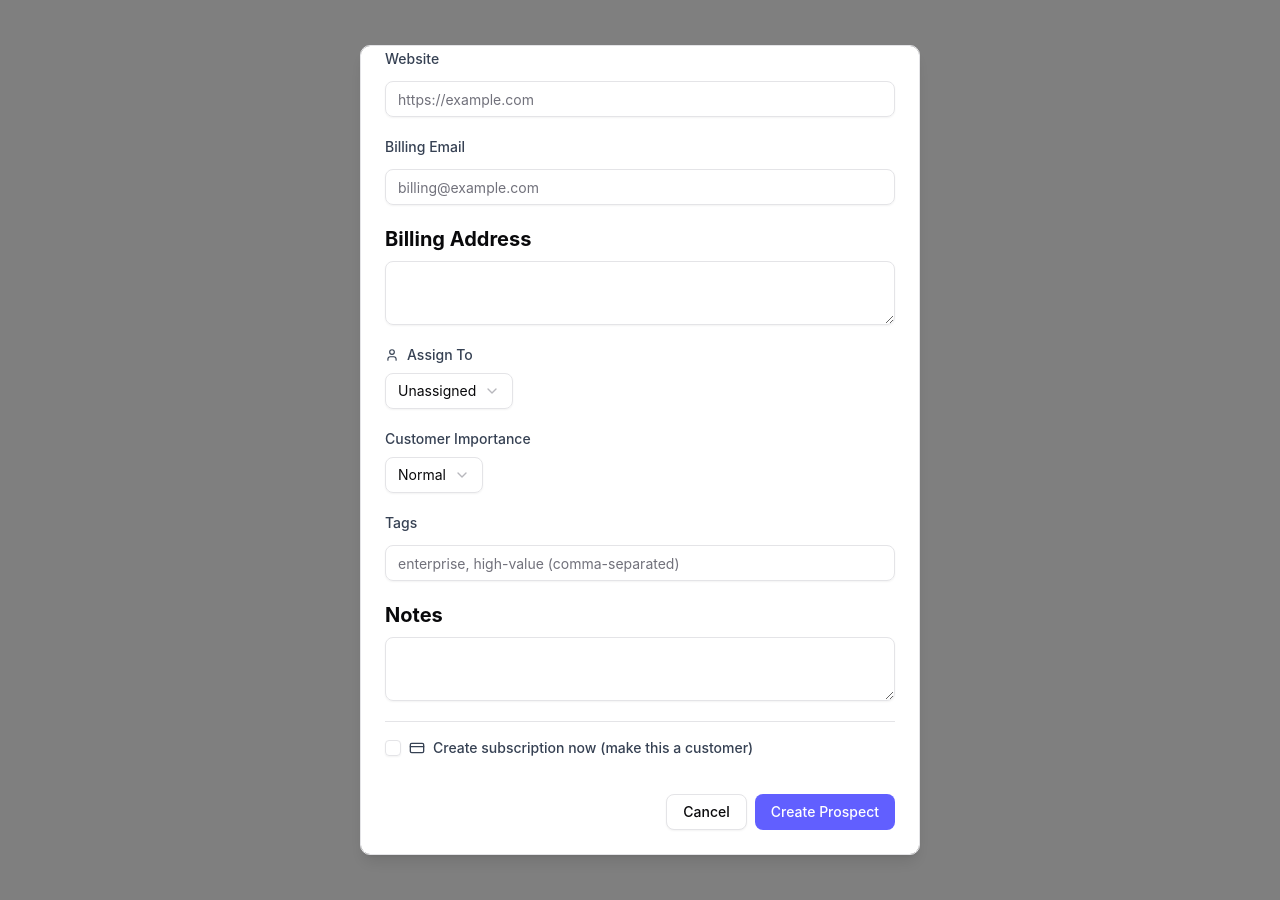
Test case: CreateCustomerDialog › Create Subscription Toggle › should show subscription section when toggle is checked
The width and height of the screenshot is (1280, 900).
(page scrolled)
Expected: the text "Subscription Details" is not shown
Click the checkbox named "create subscription now" at (393,748), box [385, 740, 401, 756]
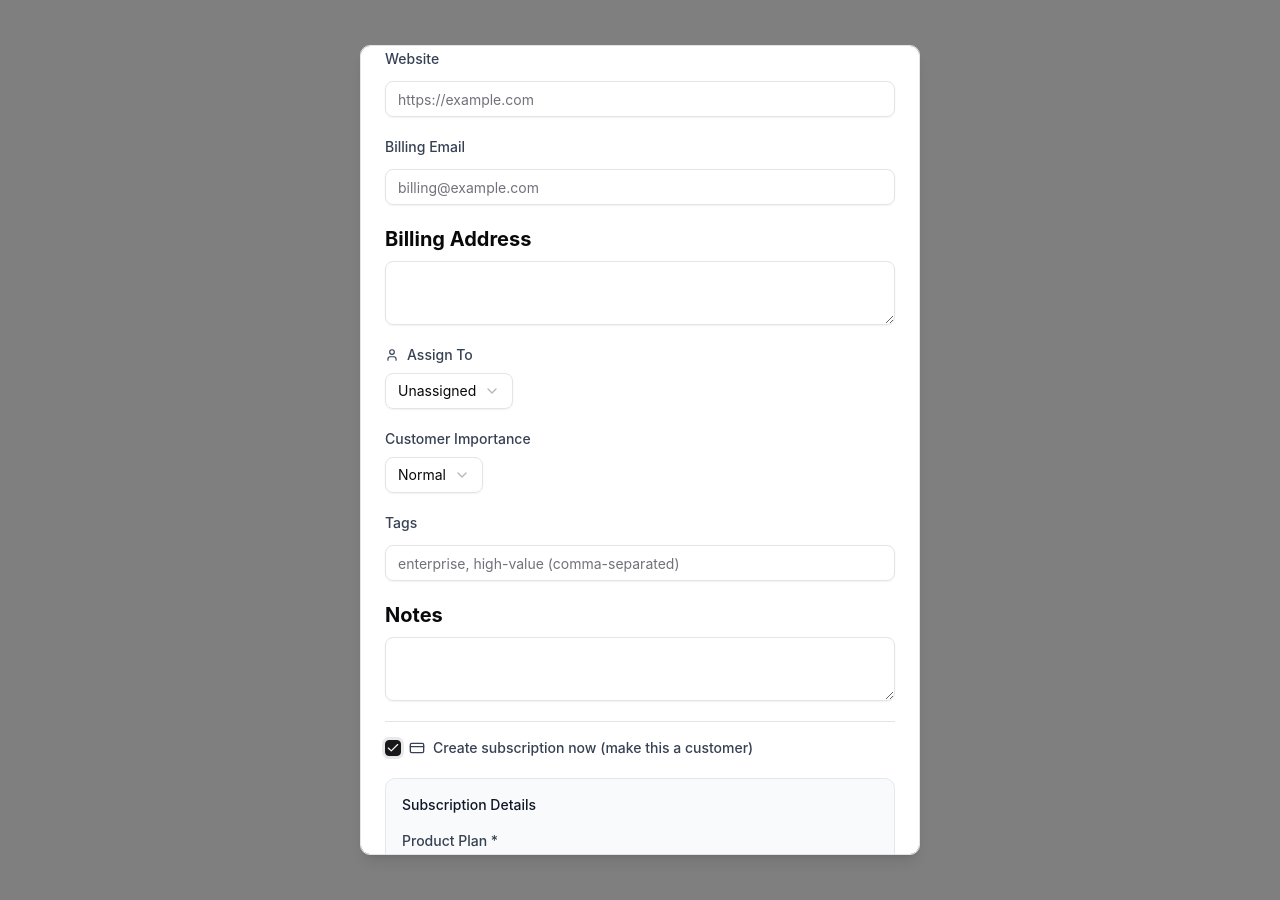
Now the heading "Subscription Details" is shown, box [402, 796, 536, 813]
